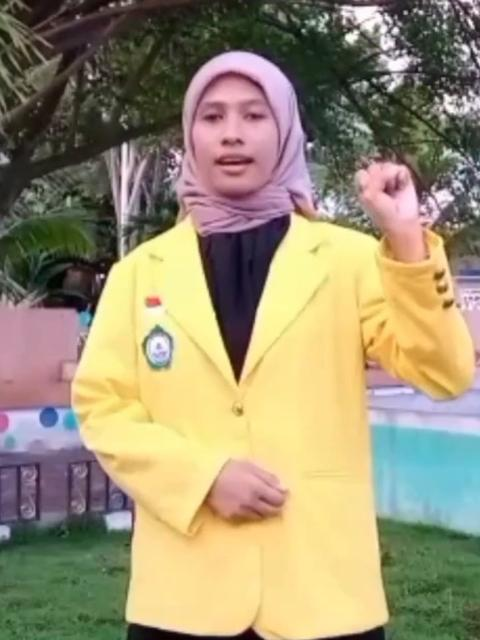S: (350, 157, 430, 229)
